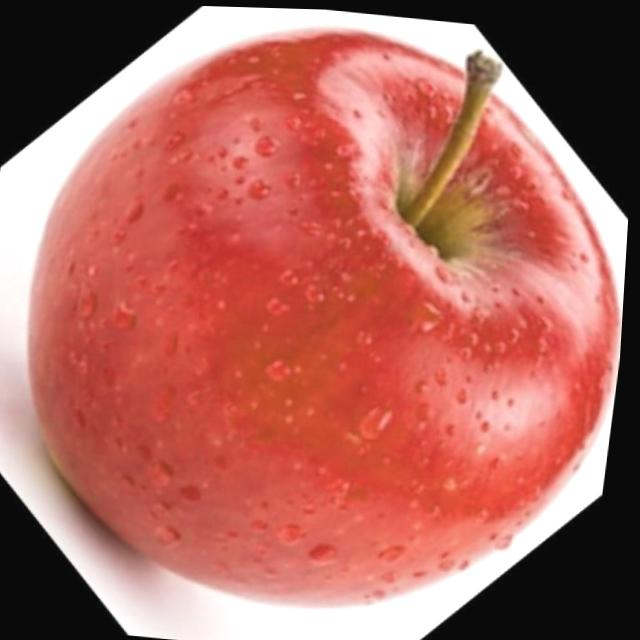Apple: (0, 1, 640, 632)
